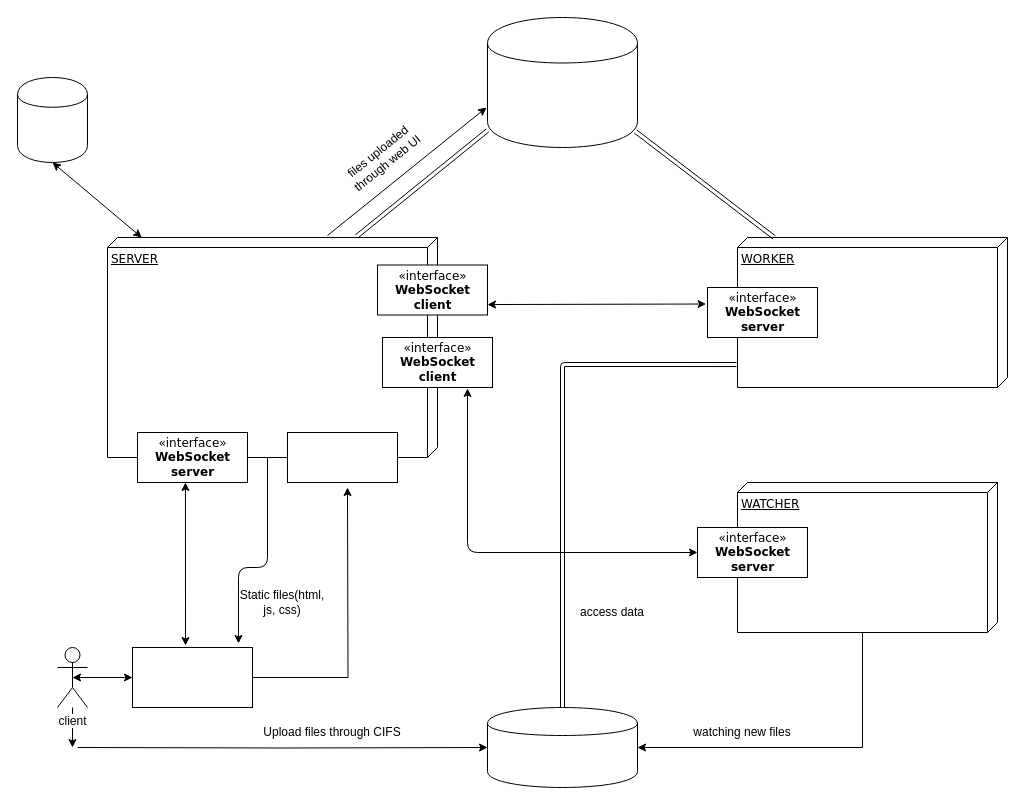
The diagram is 1025 pixels wide and 805 high, and some of its shapes have lost their labels. Here are the shapes that lost their labels. From the top down, the centre of each, then its label:
point 562,82: File Storage
point 52,119: Database MySQL
point 342,457: «interface» REST
point 192,677: Browser
point 562,747: File Share
